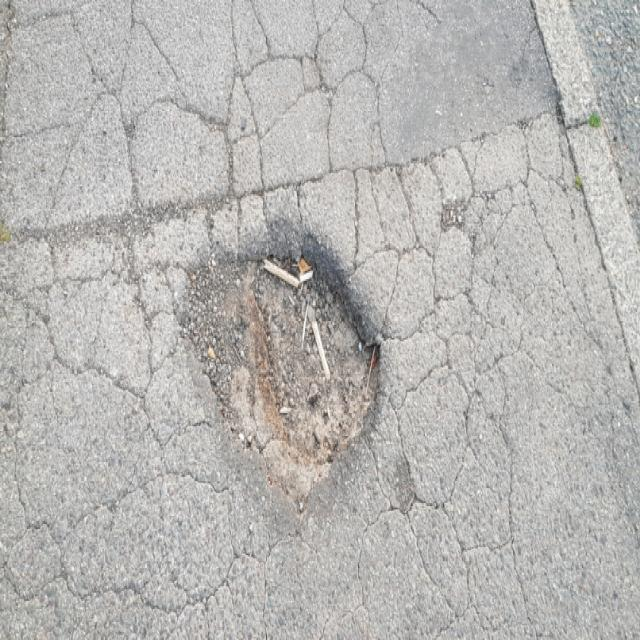Pothole: (173, 222, 384, 512)
